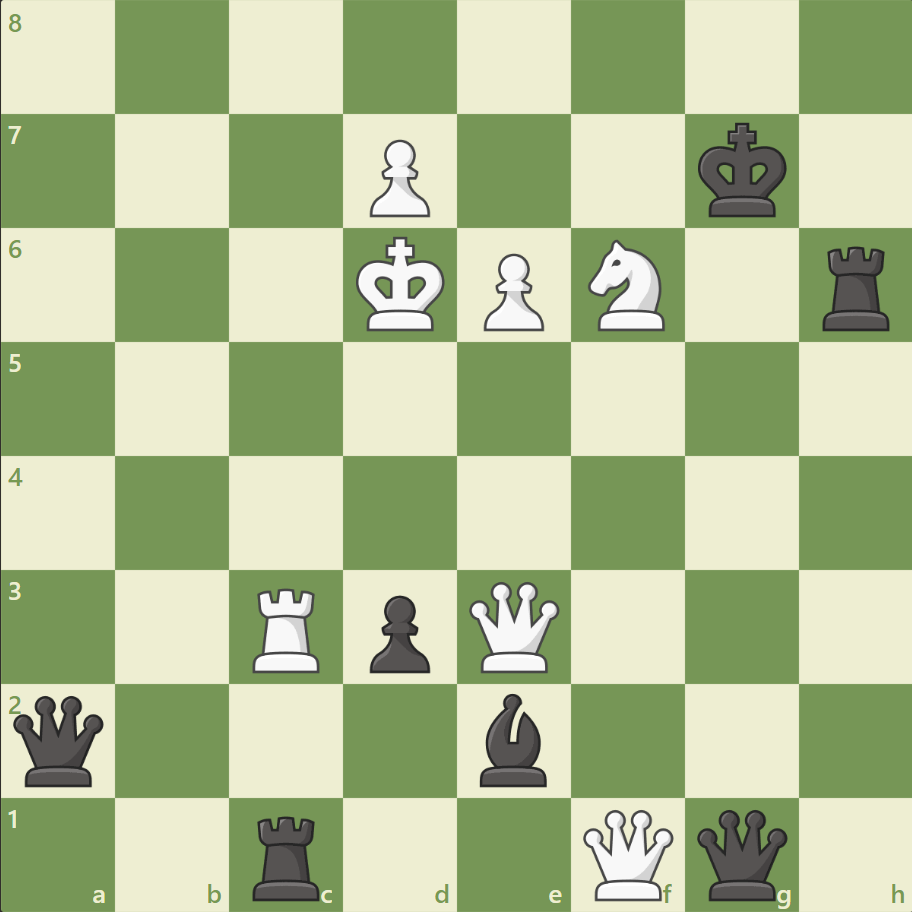K: (351, 231, 451, 339)
N: (579, 234, 676, 337)
P: (474, 246, 549, 337), (361, 132, 435, 223)
Q: (464, 576, 563, 676), (578, 804, 677, 903)
R: (246, 579, 329, 676)
b: (471, 687, 555, 790)
k: (692, 117, 792, 225)
p: (361, 586, 435, 677)
q: (10, 690, 109, 789), (691, 804, 790, 903)
r: (246, 806, 329, 904), (814, 239, 897, 336)
